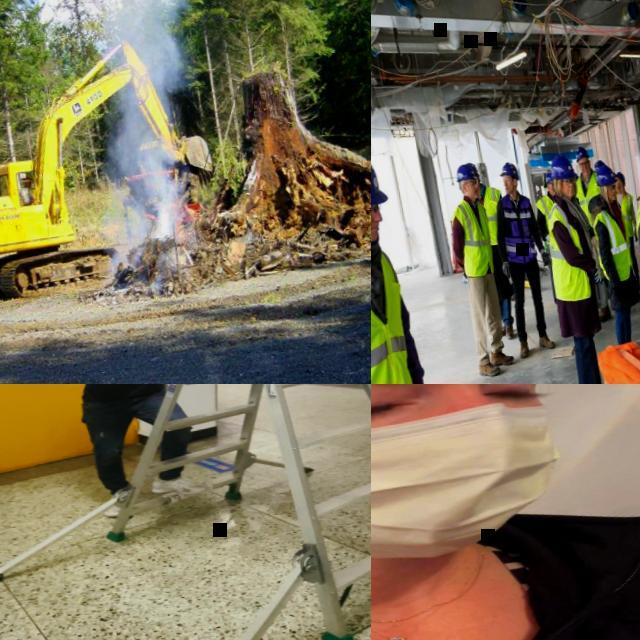helmet: (371, 142, 387, 208), (548, 151, 576, 180), (594, 162, 616, 186), (497, 160, 518, 180), (454, 162, 476, 180), (574, 145, 588, 162), (613, 170, 625, 186), (542, 170, 552, 183), (592, 158, 604, 168), (466, 161, 476, 173)
vest: (371, 246, 418, 384), (542, 199, 590, 303), (449, 195, 494, 278), (590, 207, 636, 283), (499, 190, 538, 265), (572, 171, 602, 228), (478, 183, 506, 244), (532, 194, 559, 254), (618, 192, 638, 238)
